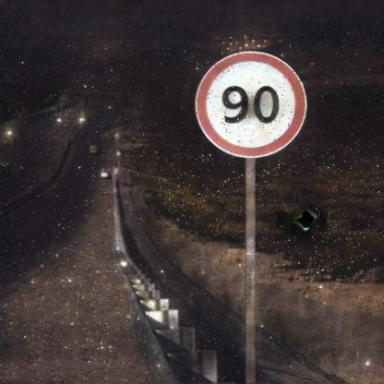Speed_limit_90: (197, 52, 307, 158)
